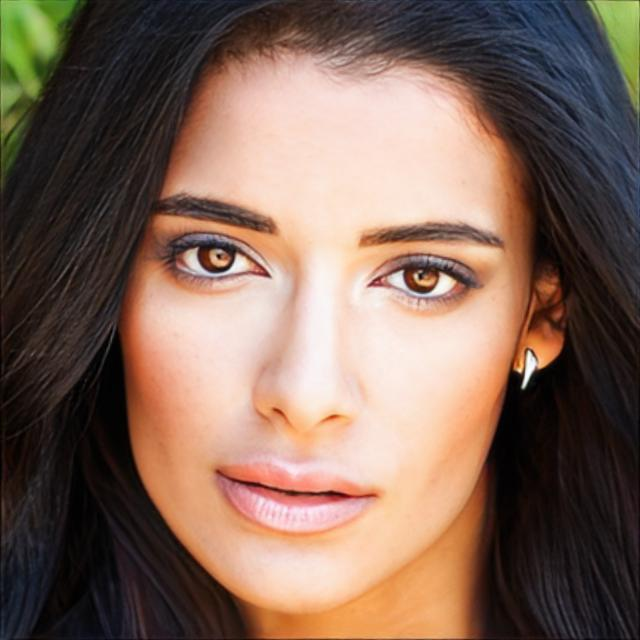neutral: (119, 35, 526, 616)
